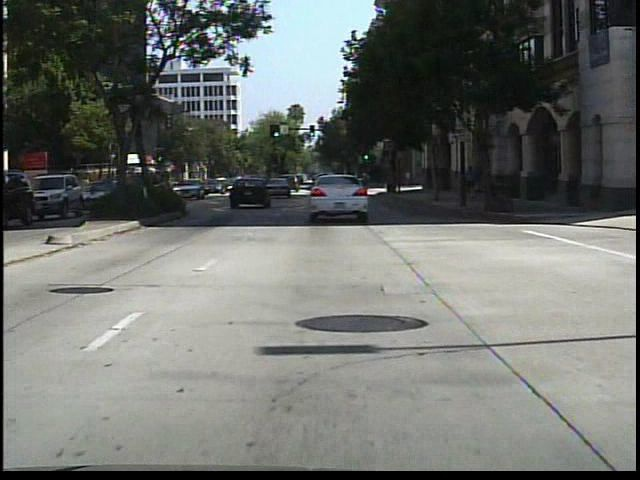person: (462, 162, 480, 205)
